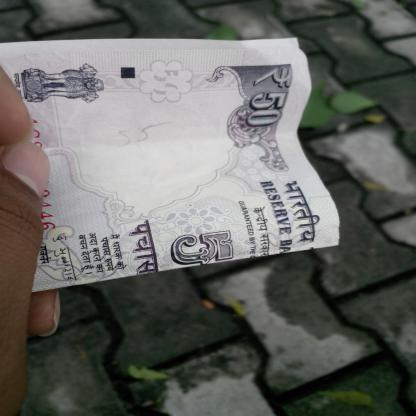Old50Front: (0, 37, 343, 292)
